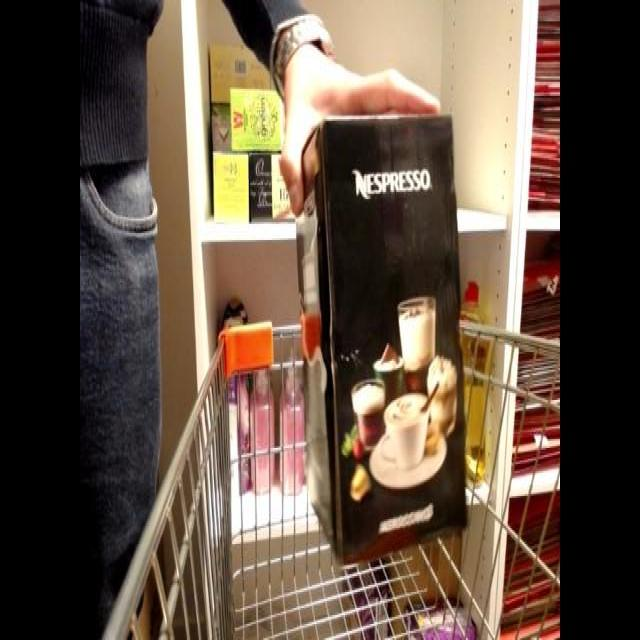Nespresso: (292, 98, 482, 567)
